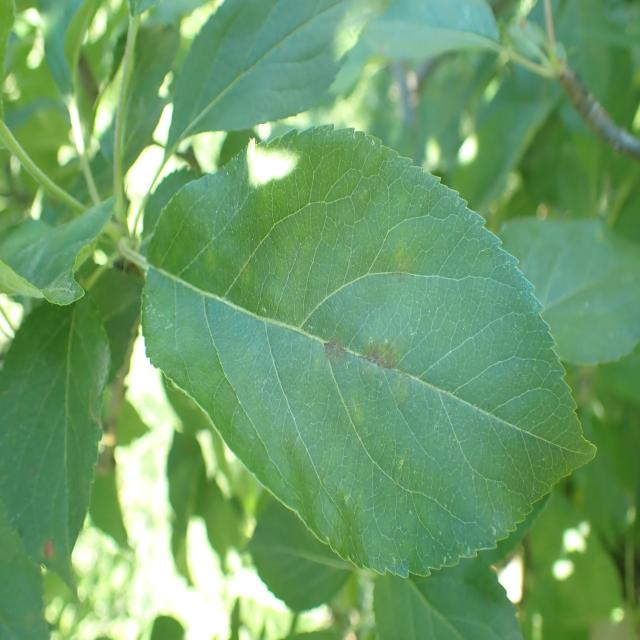scab: (160, 137, 494, 496)
